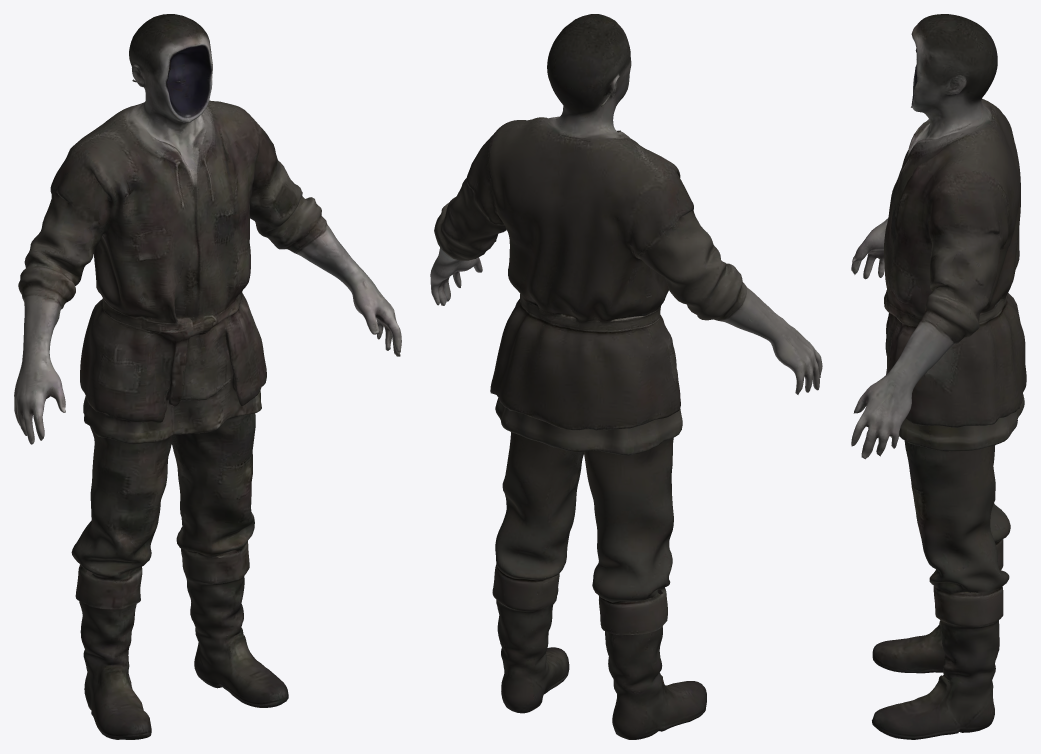
Rendered from HOLLOW-T1-UNDONE-V7-GAME.glb.
The picture shows the model from 3 angles, left to right: view 1: azimuth 30°, elevation 25°; view 2: azimuth 150°, elevation 25°; view 3: azimuth 270°, elevation 25°; orthographic projection.
Visible parts, largest first — view 1: mesh_node; view 2: mesh_node; view 3: mesh_node.
Part boxes in pixels (x1=…): mesh_node: x1=14, y1=14, x2=401, y2=739; mesh_node: x1=430, y1=14, x2=822, y2=739; mesh_node: x1=851, y1=14, x2=1026, y2=739.
Bounding box in the file's own units: 1.09 × 1.9 × 0.4428.
Materials: 1 (1 with a texture image).
